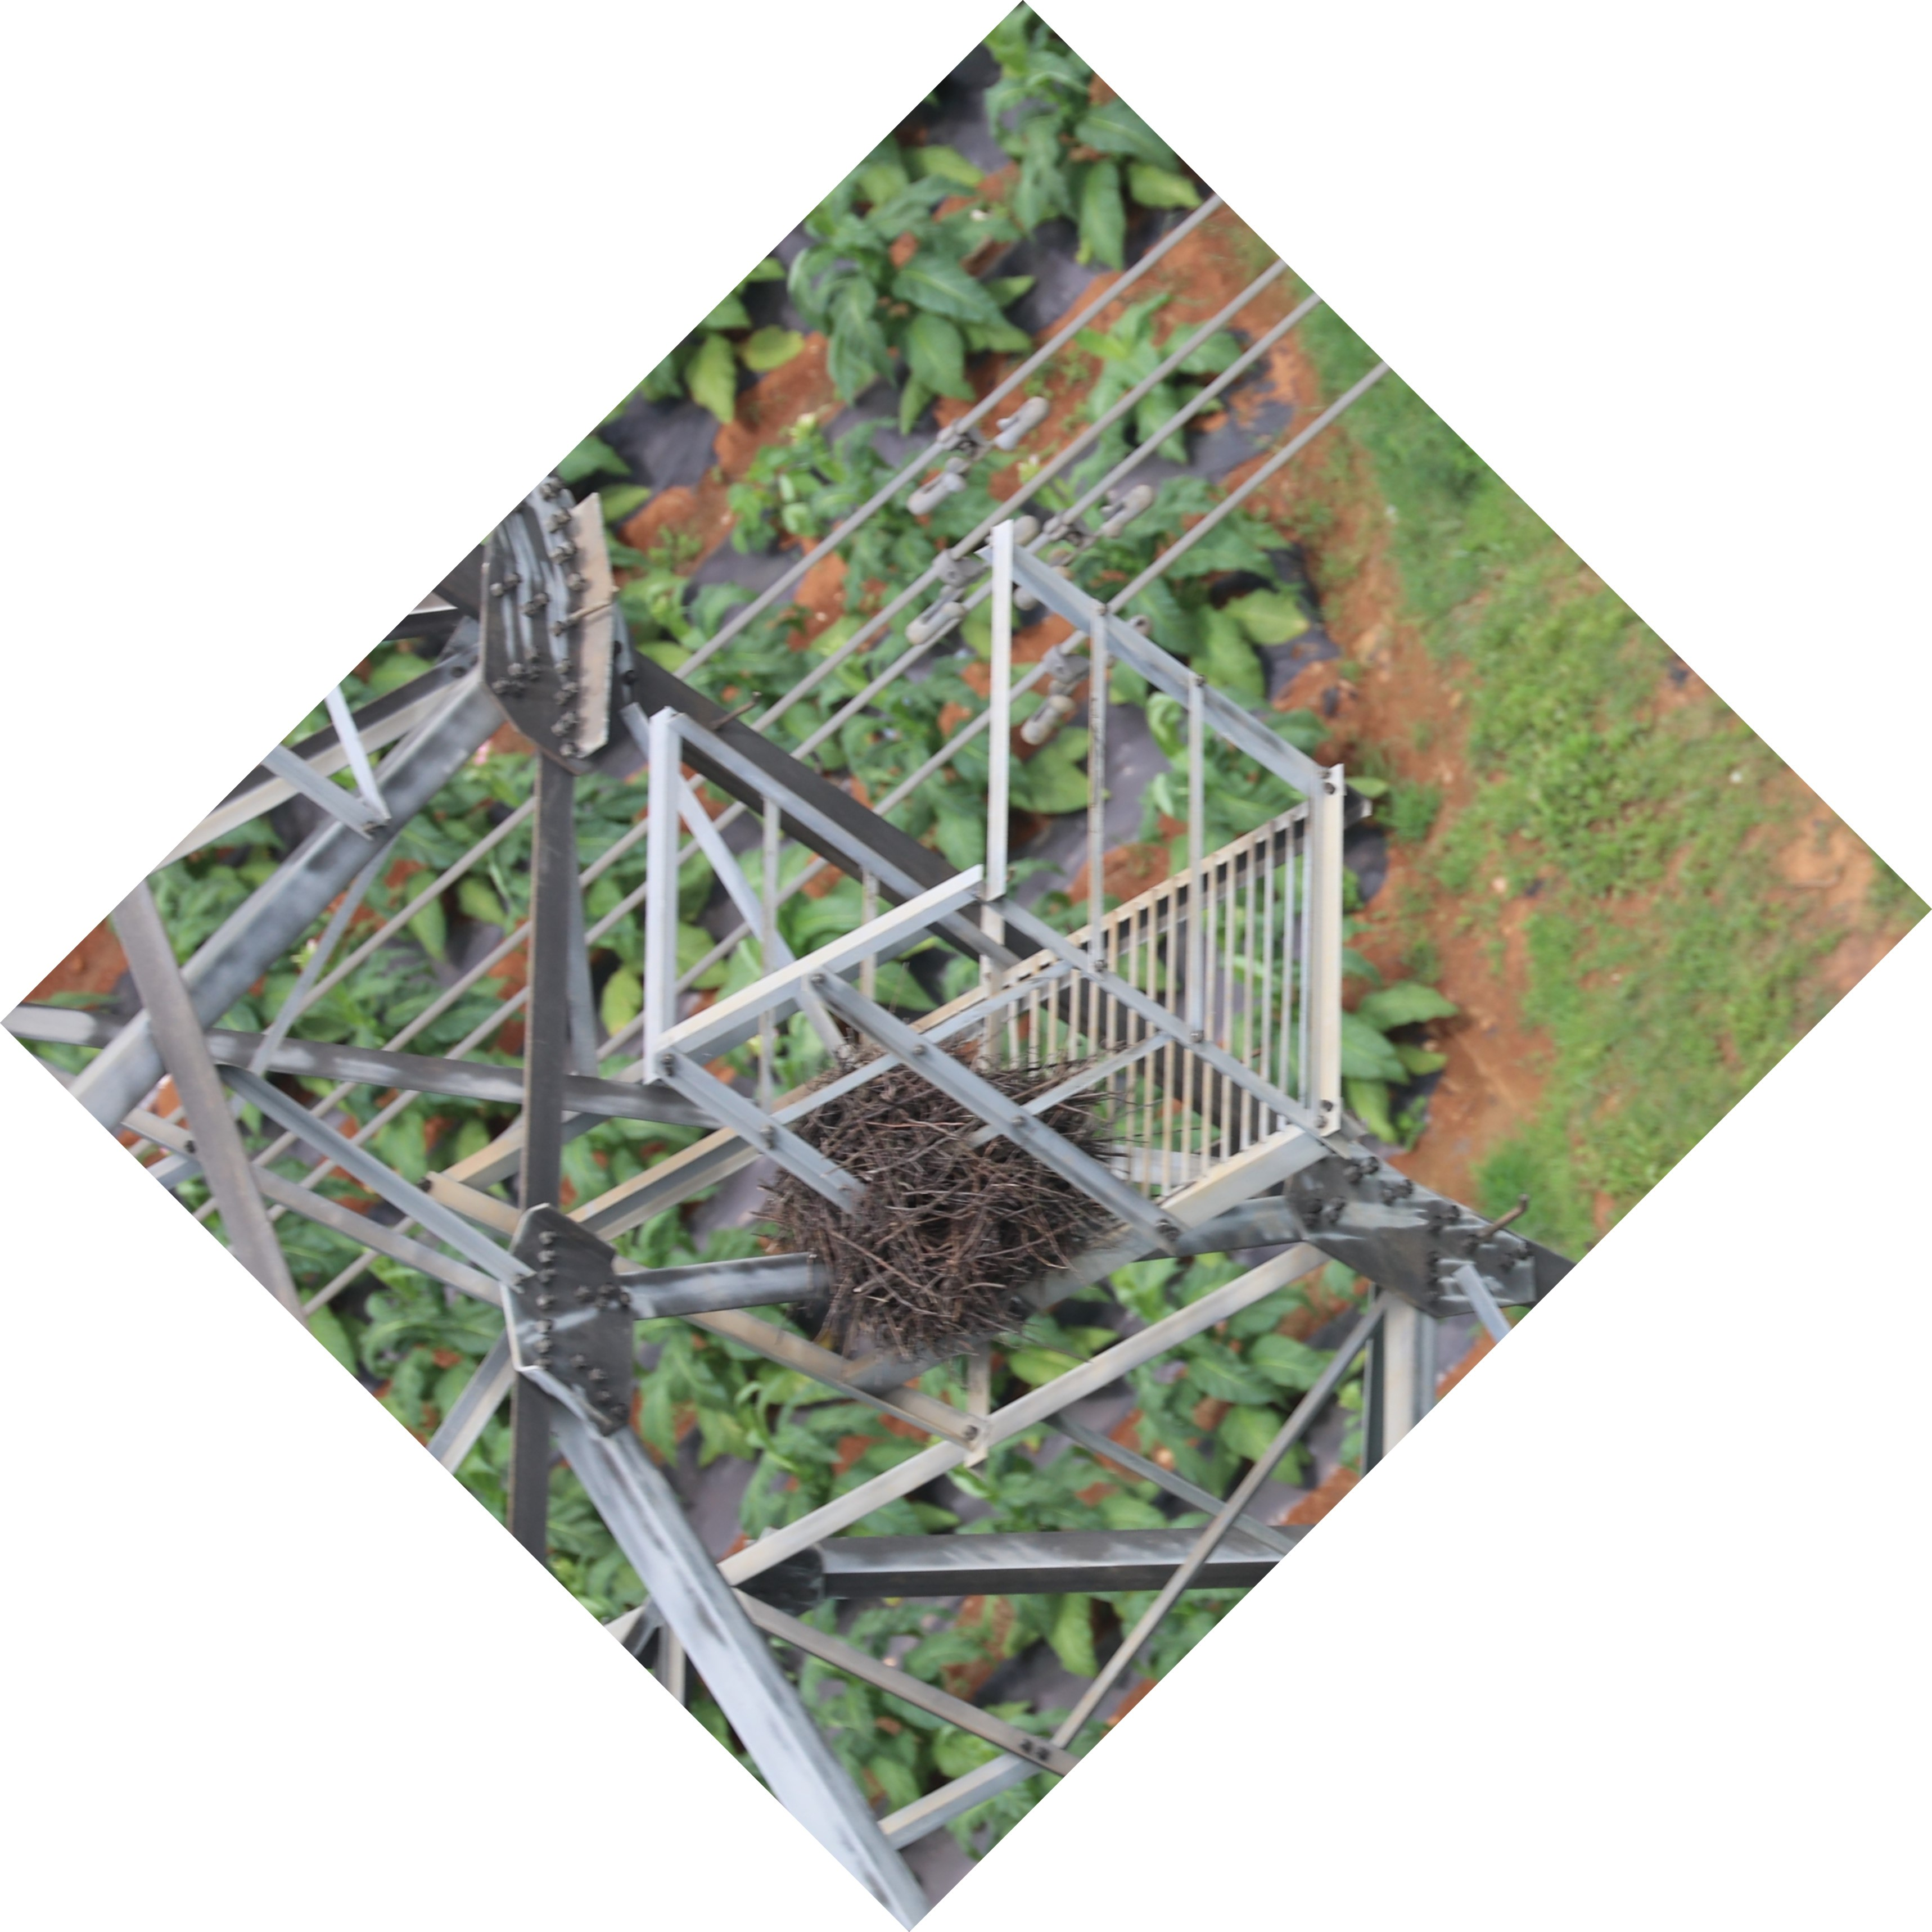niaowo: (709, 1010, 1139, 1369)
